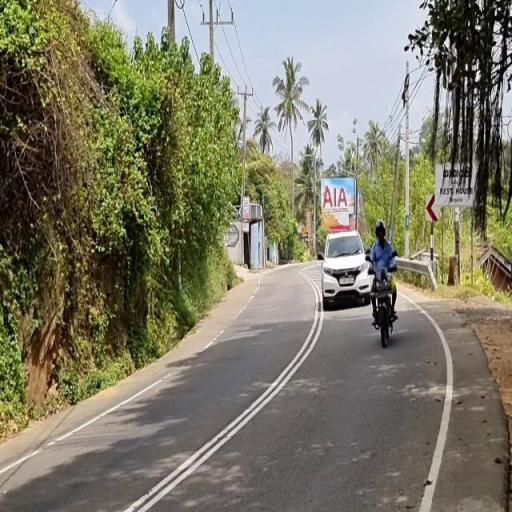double_white_line: (126, 310, 322, 510)
